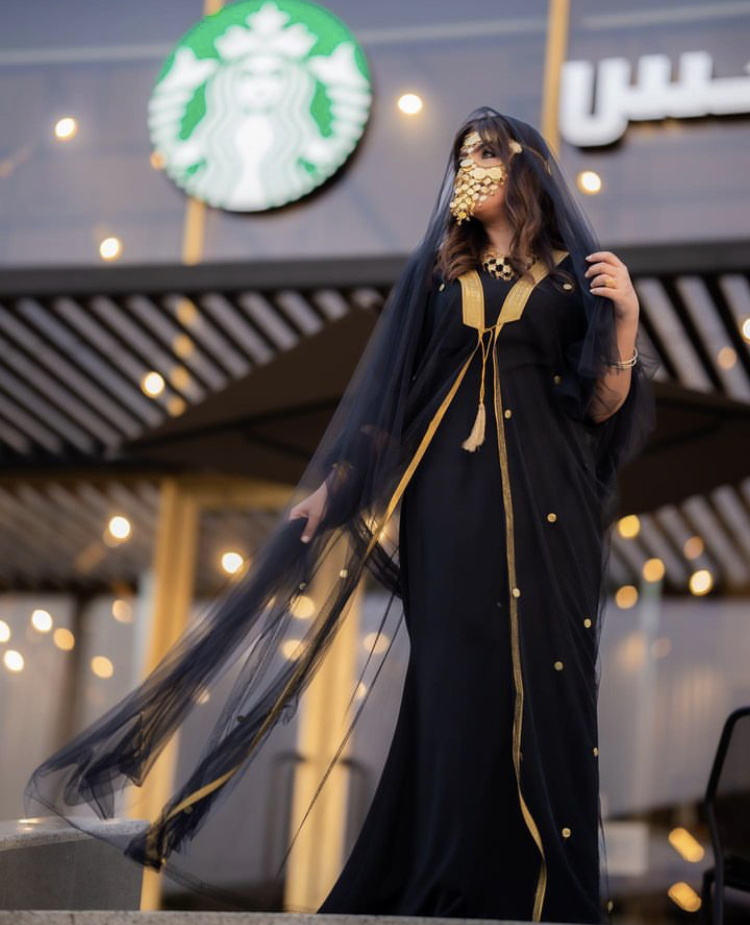Saudi_Founding_Day: (22, 103, 645, 921)
